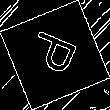P_SE: (25, 28, 85, 82)
